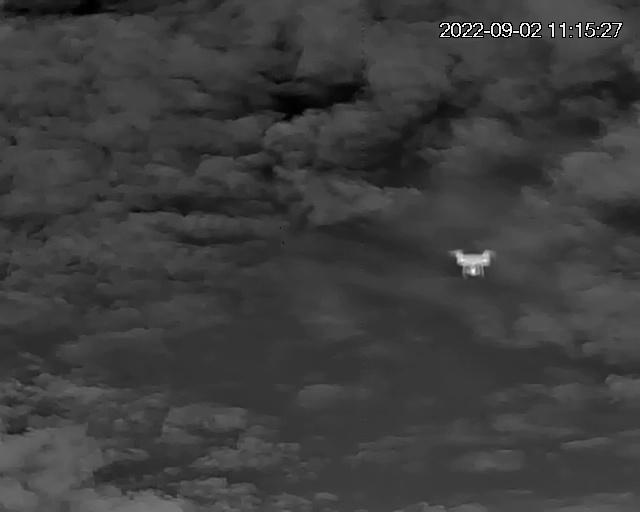DJI-Phantom: (447, 244, 498, 283)
